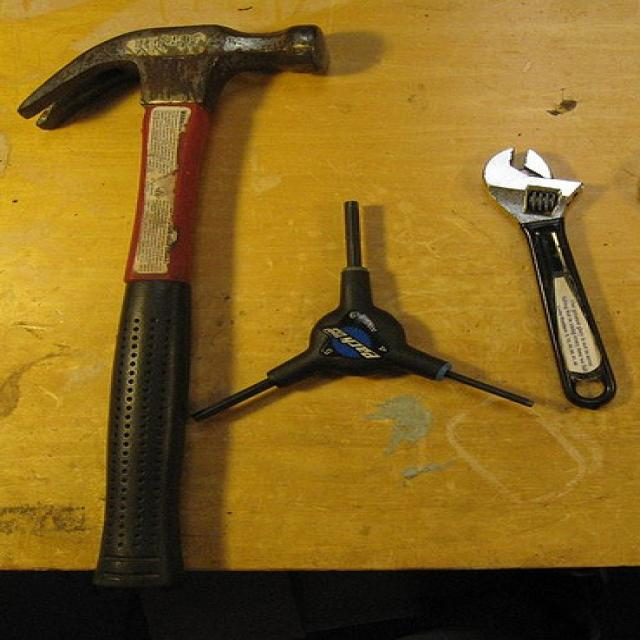wrench: (468, 133, 640, 418)
